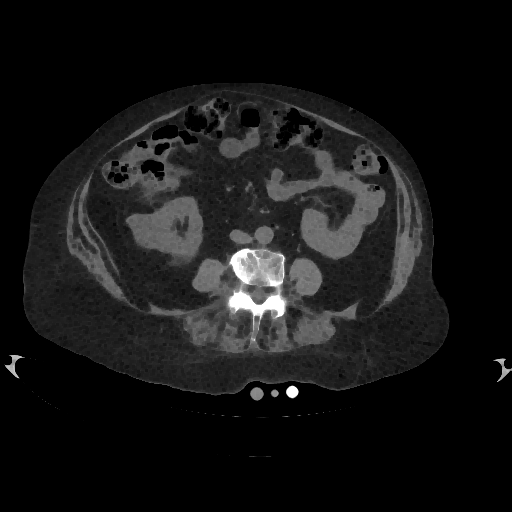Lesion: (123, 208, 169, 253)
